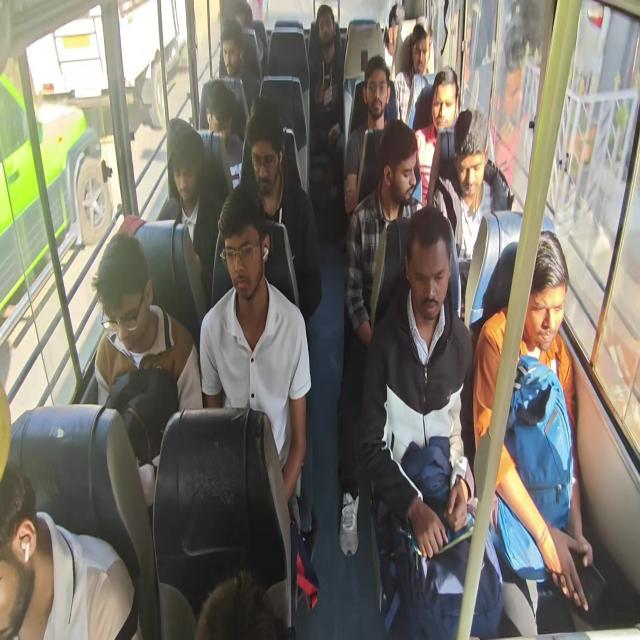person: (89, 4, 593, 637), (358, 206, 504, 638), (472, 230, 593, 636), (337, 118, 426, 556), (199, 184, 312, 528), (0, 460, 142, 638), (217, 97, 322, 324), (91, 232, 202, 413), (428, 107, 513, 318), (155, 118, 223, 305), (343, 55, 397, 219), (308, 3, 345, 226), (413, 66, 460, 206), (194, 570, 288, 639), (201, 78, 244, 195), (394, 23, 434, 128), (219, 19, 260, 116), (383, 4, 405, 57)
